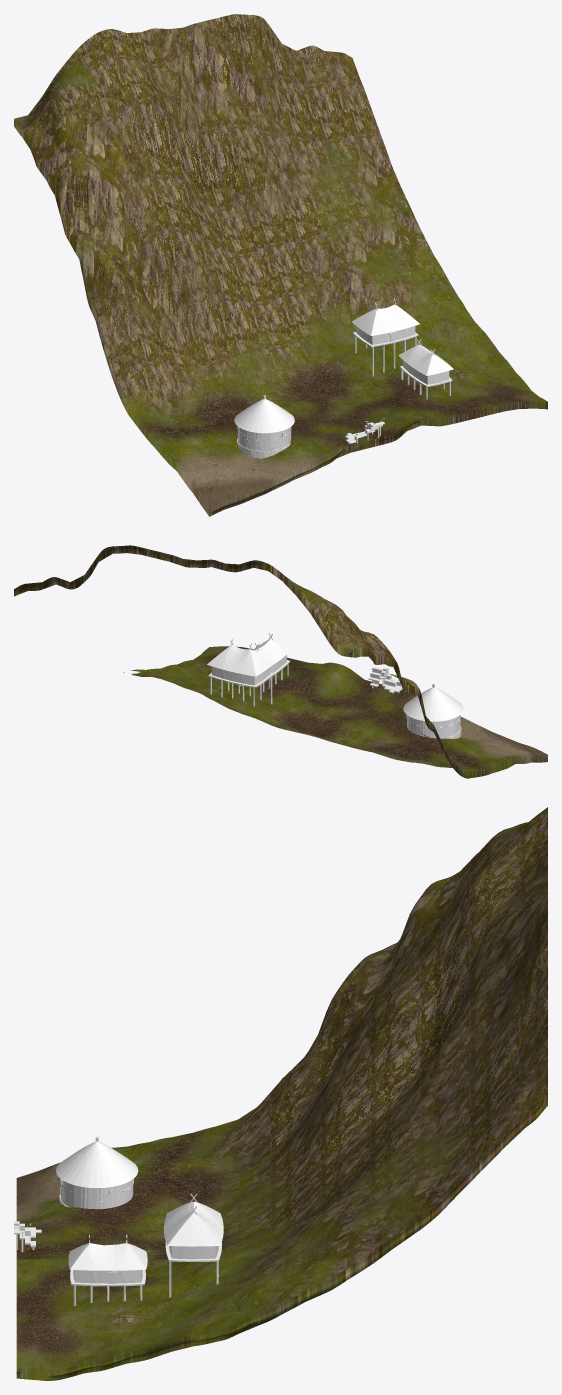
The model's file is chunk_2_4.glb.
3 renders of one model, top to bottom at view 1: azimuth 30°, elevation 25°; view 2: azimuth 150°, elevation 25°; view 3: azimuth 270°, elevation 25°, orthographic. The views are drawn at different scales.
Parts seen in each view (by area): view 1: Terrain_L2, Terrain_L0, Terrain_L1, Buildings_L0, Buildings_L1; view 2: Terrain_L2, Terrain_L0, Terrain_L1, Buildings_L0, Buildings_L1; view 3: Terrain_L2, Terrain_L0, Terrain_L1, Buildings_L0, Buildings_L1.
Boxes of the visible parts, x1,y1,x2,y2 form: Terrain_L2: (14,14,547,516); Terrain_L0: (14,14,546,516); Terrain_L1: (18,14,547,515); Buildings_L0: (234,298,452,458); Buildings_L1: (234,304,453,458); Terrain_L2: (15,545,547,778); Terrain_L0: (14,545,547,778); Terrain_L1: (14,545,546,778); Buildings_L0: (210,633,463,738); Buildings_L1: (207,639,463,738); Terrain_L2: (16,819,547,1380); Terrain_L0: (16,807,547,1380); Terrain_L1: (16,808,547,1380); Buildings_L0: (14,1137,223,1305); Buildings_L1: (14,1136,223,1304).
Bounding box in the file's own units: 96 × 87.16 × 96.5.
4 materials, 1 textured.
